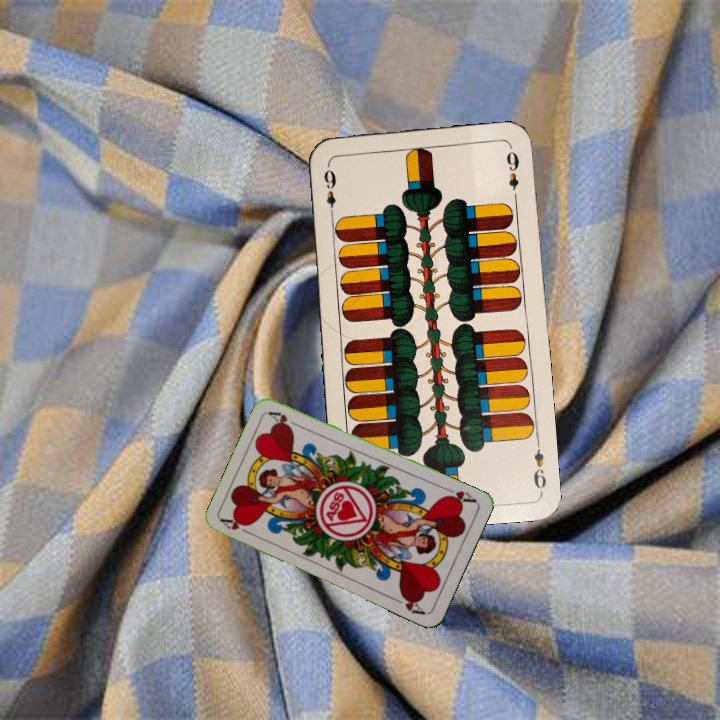E9: (529, 435, 549, 494), (320, 160, 339, 219)
HA: (440, 483, 479, 507), (218, 515, 257, 538)
